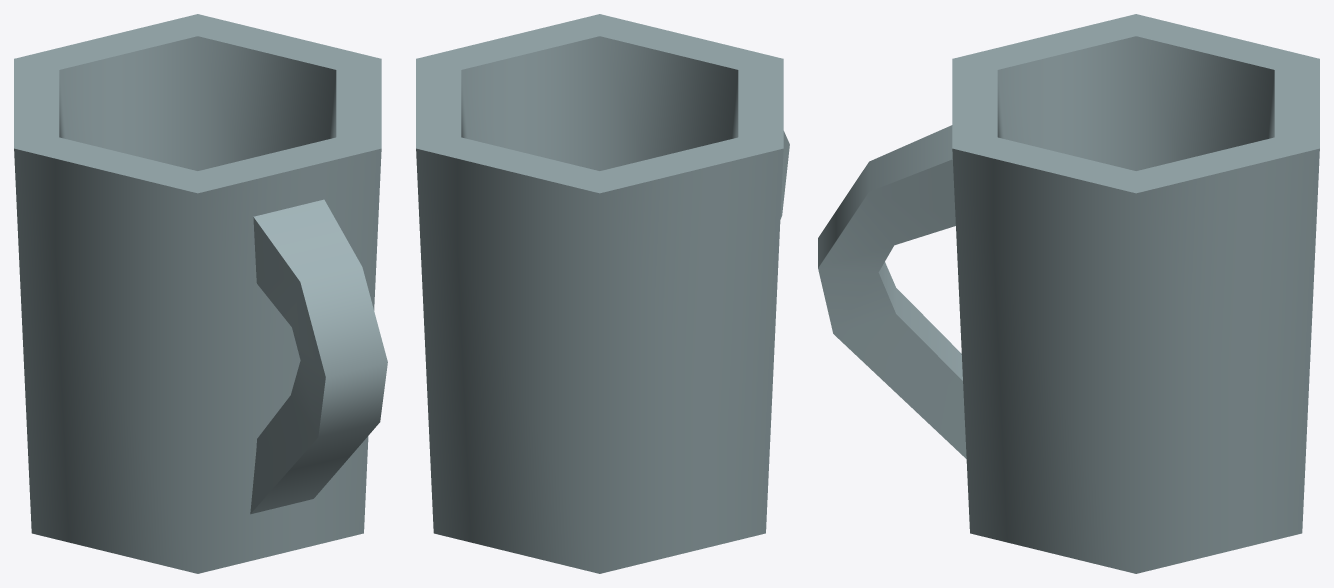
File: SM_Cup_01.fbx
The picture shows the model from 3 angles, left to right: view 1: azimuth 30°, elevation 25°; view 2: azimuth 150°, elevation 25°; view 3: azimuth 270°, elevation 25°; orthographic projection.
Visible parts, largest first — view 1: SM_Cup_01; view 2: SM_Cup_01; view 3: SM_Cup_01.
Boxes of the visible parts, x1,y1,x2,y2 form: SM_Cup_01: (14,14,387,573); SM_Cup_01: (416,14,789,573); SM_Cup_01: (818,14,1319,573).
Size of the model in its own units: 19.49 by 19.72 by 23.05.
1 material, 1 textured.
